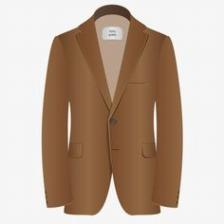brown: (43, 5, 183, 215)
